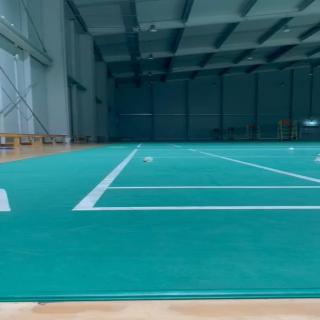Shuttle: (141, 156, 154, 163), (314, 154, 320, 160), (288, 147, 296, 151)
